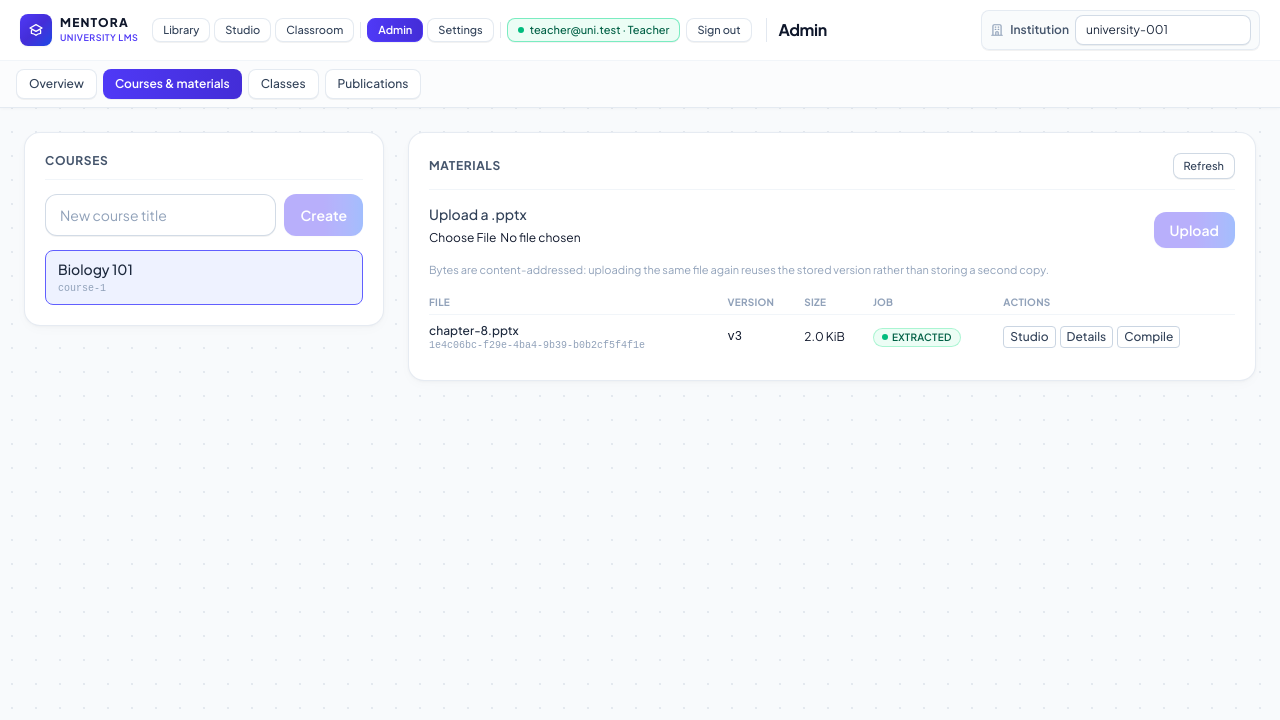
Test: AdminPage — courses and materials › compiles a deck in the render mode chosen in Settings
Step 1. Click the button "Compile" → (1149, 337), box [1117,326,1180,348]
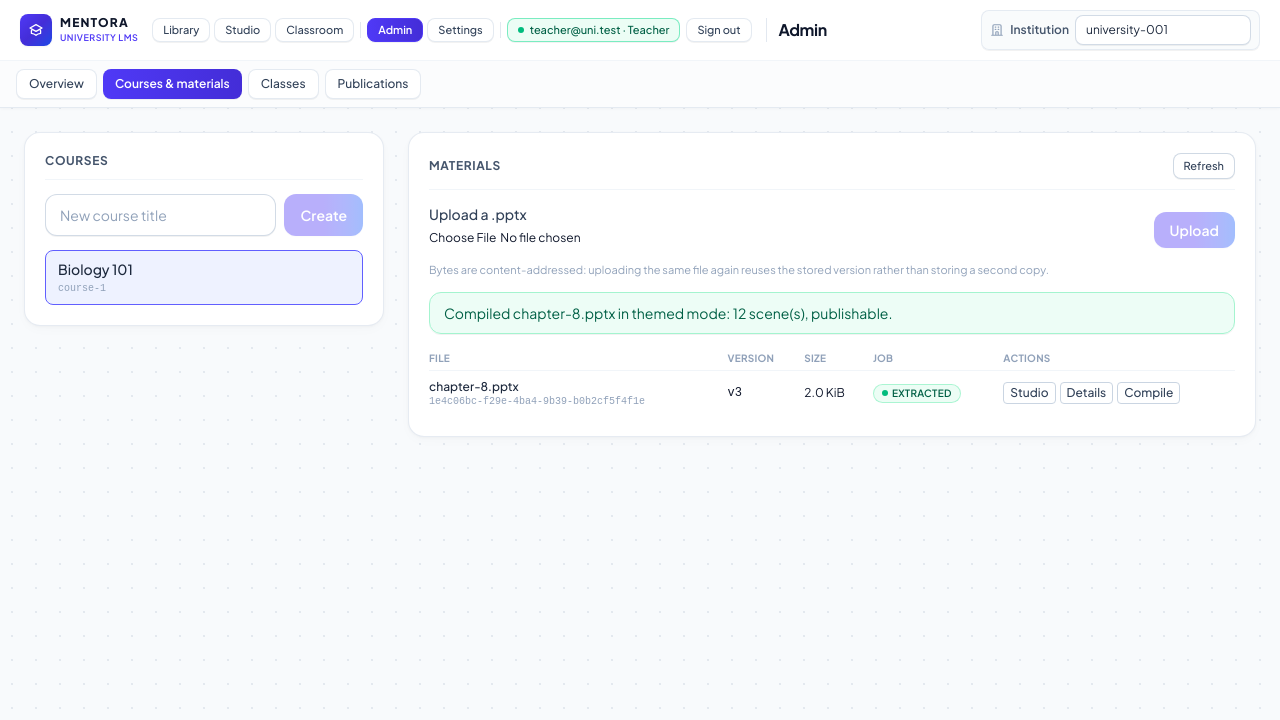
Check: the text "12 scene(s), publishable" is shown, box [444,304,892,322]
